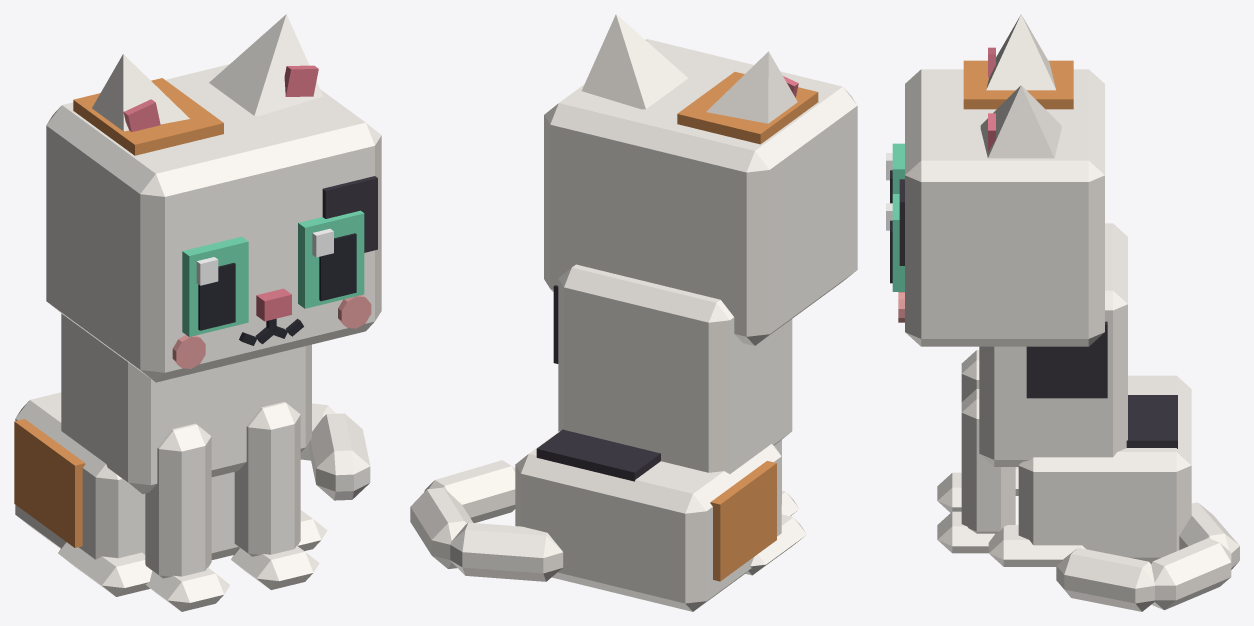
Rendered from CleanACat_Cat_Patches_Sit.fbx.
3 renders of one model, left to right at view 1: azimuth 30°, elevation 25°; view 2: azimuth 150°, elevation 25°; view 3: azimuth 270°, elevation 25°, orthographic. The views are drawn at different scales.
Visible parts, largest first — view 1: CleanACat_Cat_Patches_Sit_Head, CleanACat_Cat_Patches_Sit_Body, CleanACat_Cat_Patches_Sit_LegF1, CleanACat_Cat_Patches_Sit_LegF2, CleanACat_Cat_Patches_Sit_EarL, CleanACat_Cat_Patches_Sit_Eye2, CleanACat_Cat_Patches_Sit_Eye1, CleanACat_Cat_Patches_Sit_Tail, CleanACat_Cat_Patches_Sit_EarR; view 2: CleanACat_Cat_Patches_Sit_Body, CleanACat_Cat_Patches_Sit_Head, CleanACat_Cat_Patches_Sit_Tail, CleanACat_Cat_Patches_Sit_EarL, CleanACat_Cat_Patches_Sit_EarR; view 3: CleanACat_Cat_Patches_Sit_Head, CleanACat_Cat_Patches_Sit_Body, CleanACat_Cat_Patches_Sit_Tail, CleanACat_Cat_Patches_Sit_LegF1, CleanACat_Cat_Patches_Sit_EarL, CleanACat_Cat_Patches_Sit_EarR, CleanACat_Cat_Patches_Sit_LegF2, CleanACat_Cat_Patches_Sit_Eye1, CleanACat_Cat_Patches_Sit_Eye2.
Part boxes in pixels (bbox=[...]): CleanACat_Cat_Patches_Sit_Head: bbox=[46, 64, 381, 382]; CleanACat_Cat_Patches_Sit_Body: bbox=[14, 313, 327, 596]; CleanACat_Cat_Patches_Sit_LegF1: bbox=[231, 402, 319, 589]; CleanACat_Cat_Patches_Sit_LegF2: bbox=[145, 423, 229, 611]; CleanACat_Cat_Patches_Sit_EarL: bbox=[209, 14, 323, 115]; CleanACat_Cat_Patches_Sit_Eye2: bbox=[182, 236, 248, 336]; CleanACat_Cat_Patches_Sit_Eye1: bbox=[298, 210, 364, 308]; CleanACat_Cat_Patches_Sit_Tail: bbox=[300, 403, 370, 500]; CleanACat_Cat_Patches_Sit_EarR: bbox=[92, 54, 189, 131]; CleanACat_Cat_Patches_Sit_Body: bbox=[515, 264, 806, 611]; CleanACat_Cat_Patches_Sit_Head: bbox=[544, 39, 857, 345]; CleanACat_Cat_Patches_Sit_Tail: bbox=[410, 460, 563, 581]; CleanACat_Cat_Patches_Sit_EarL: bbox=[581, 14, 688, 109]; CleanACat_Cat_Patches_Sit_EarR: bbox=[706, 51, 798, 123]; CleanACat_Cat_Patches_Sit_Head: bbox=[898, 60, 1104, 346]; CleanACat_Cat_Patches_Sit_Body: bbox=[979, 223, 1191, 566]; CleanACat_Cat_Patches_Sit_Tail: bbox=[1056, 502, 1239, 611]; CleanACat_Cat_Patches_Sit_LegF1: bbox=[937, 389, 1015, 553]; CleanACat_Cat_Patches_Sit_EarL: bbox=[980, 85, 1061, 158]; CleanACat_Cat_Patches_Sit_EarR: bbox=[986, 14, 1055, 90]; CleanACat_Cat_Patches_Sit_LegF2: bbox=[937, 350, 979, 512]; CleanACat_Cat_Patches_Sit_Eye1: bbox=[886, 194, 904, 291]; CleanACat_Cat_Patches_Sit_Eye2: bbox=[886, 143, 904, 203].
Size of the model in its own units: 1.24 by 1.85 by 1.24.
Materials: 1 (1 with a texture image).
